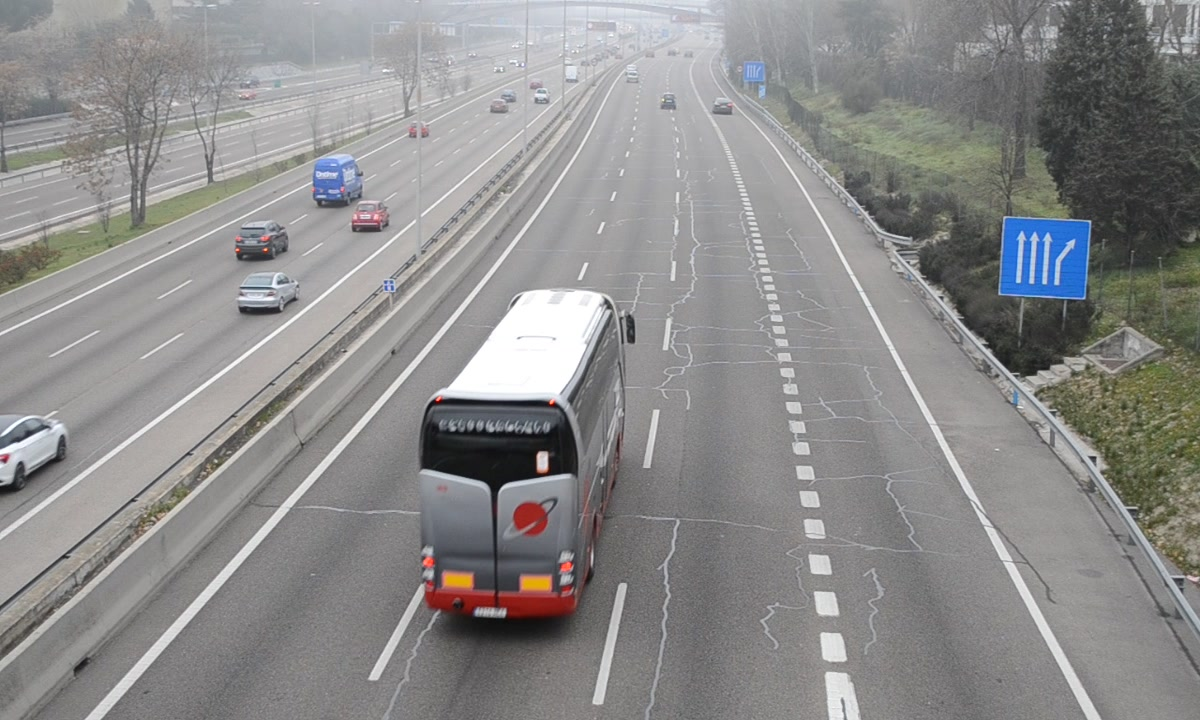bus: (417, 289, 625, 620)
car: (659, 92, 679, 112), (713, 97, 734, 116)
